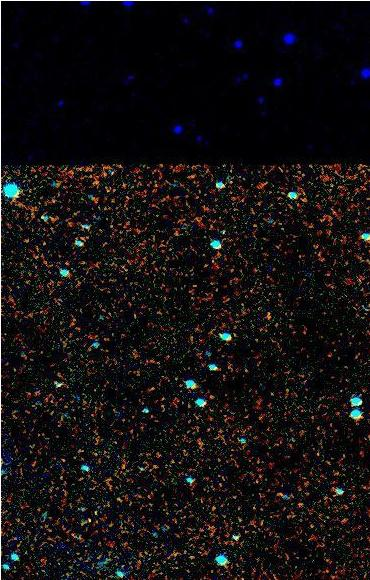star: (162, 218, 192, 248)
